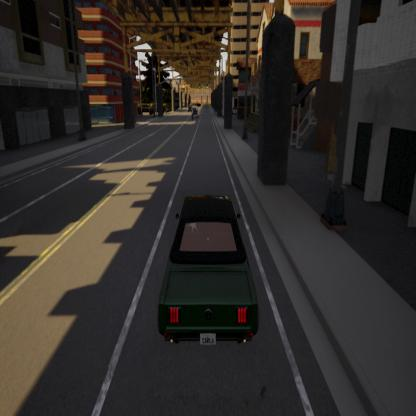Cars: (153, 176, 263, 376), (192, 96, 200, 119), (185, 98, 194, 117)
